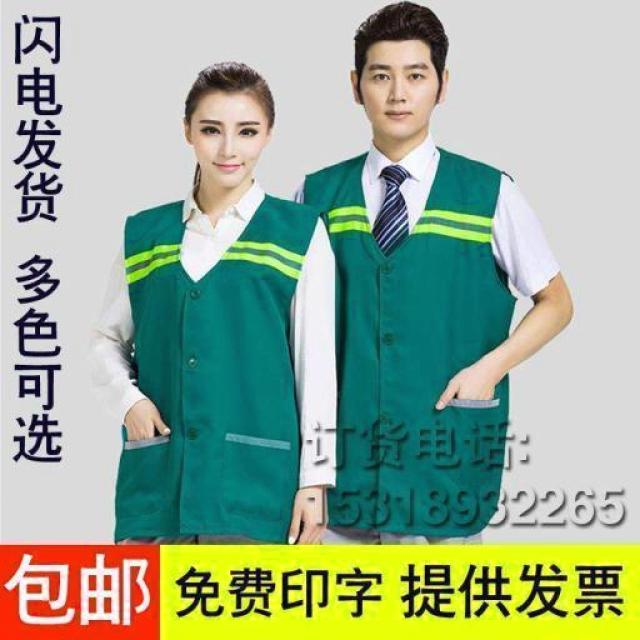face_nomask: (359, 54, 438, 130), (193, 111, 267, 182)
hand_noglove: (432, 359, 502, 416), (117, 388, 177, 448), (284, 482, 334, 546)
head_nohelmet: (342, 0, 453, 56), (180, 58, 275, 112)
person: (292, 0, 572, 540), (90, 59, 338, 542)
vest: (298, 149, 512, 527), (120, 197, 316, 539)
